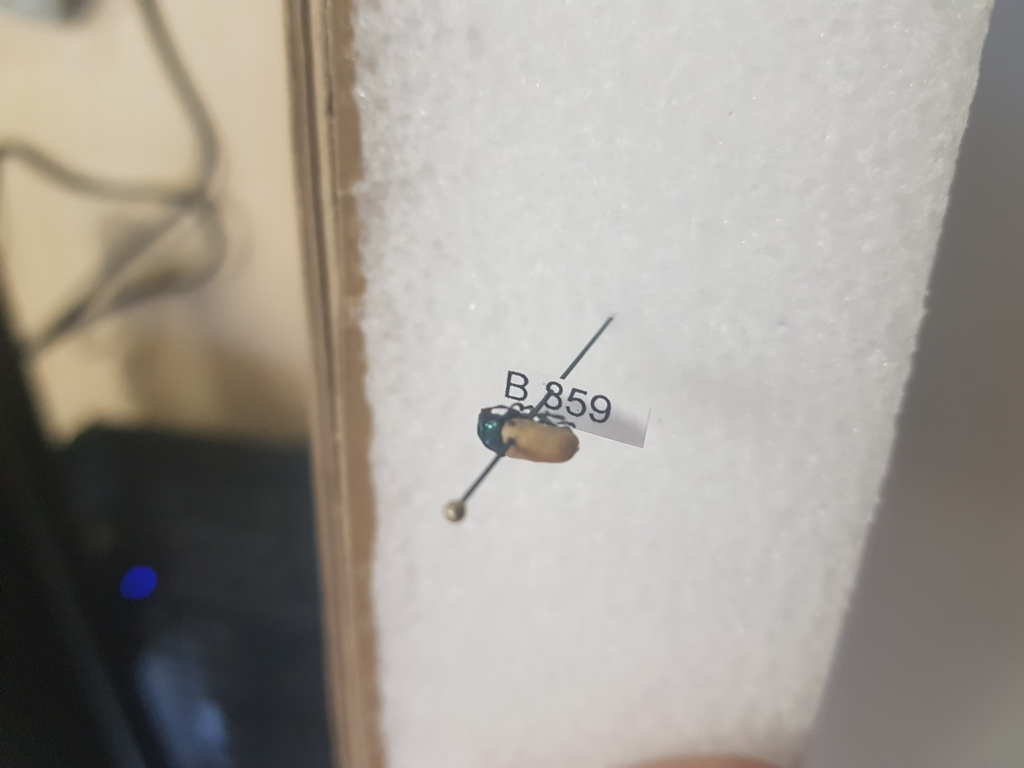Labidostomis_longimana: (474, 398, 584, 473)
